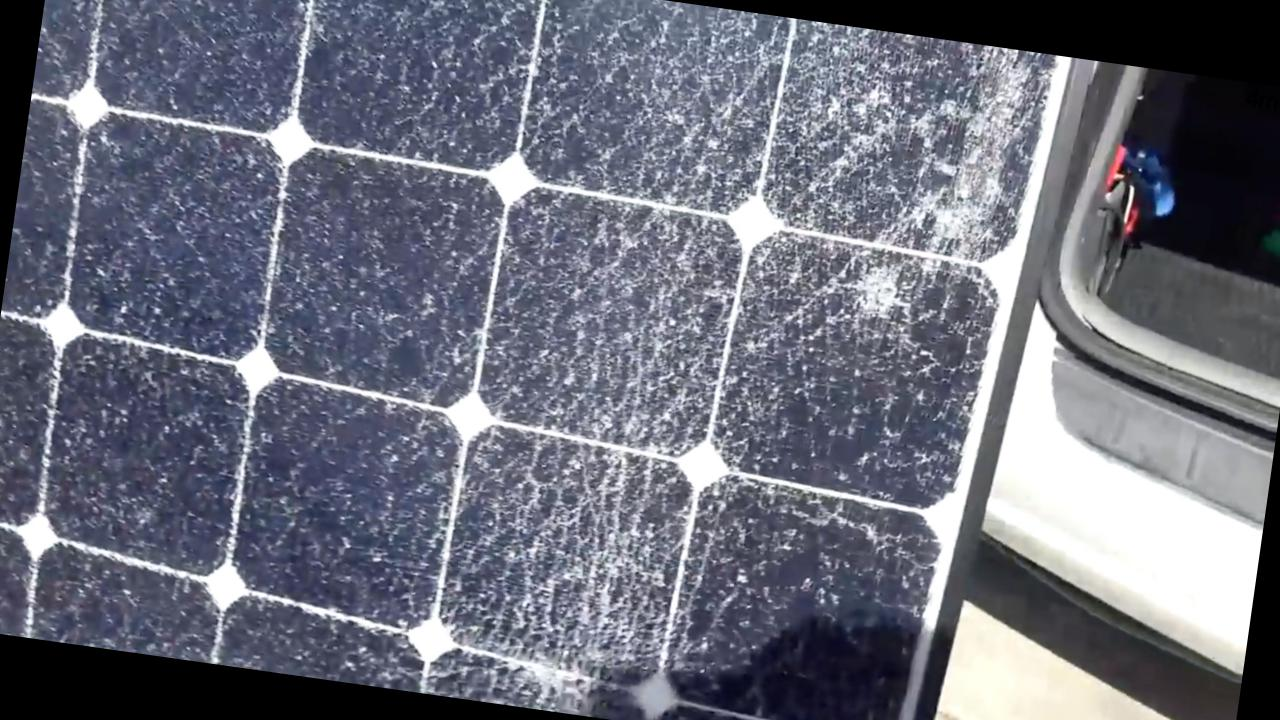Crack: (339, 0, 874, 719), (839, 33, 1054, 350)
